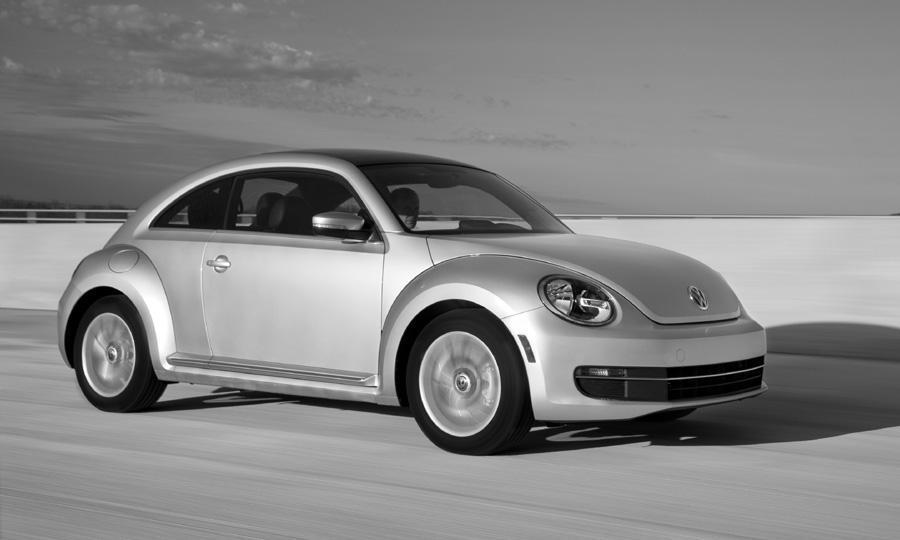car: (60, 144, 778, 463)
